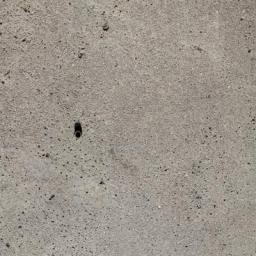FOD: (71, 119, 87, 142)
